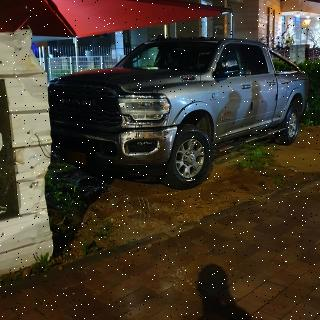LicensePlate: (66, 152, 86, 162)
